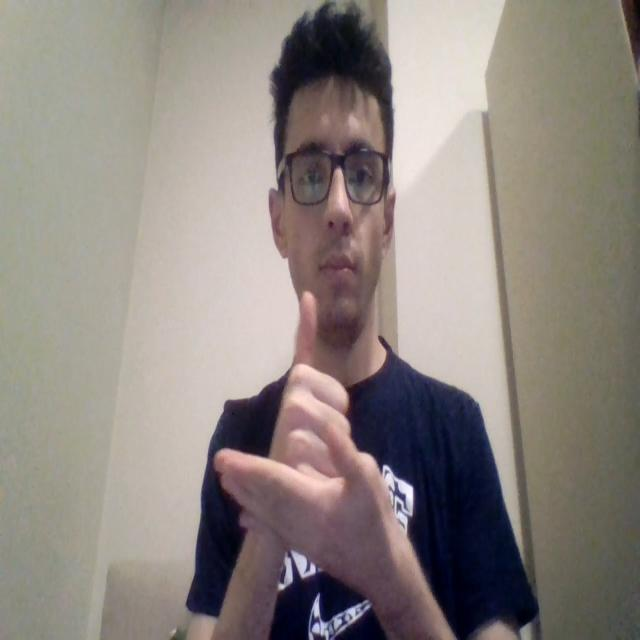help: (214, 286, 393, 576)
